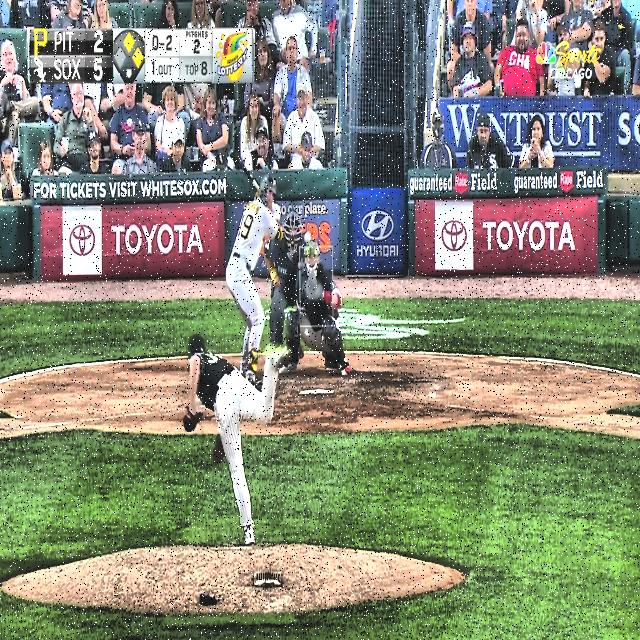baseball: (304, 232, 311, 243)
